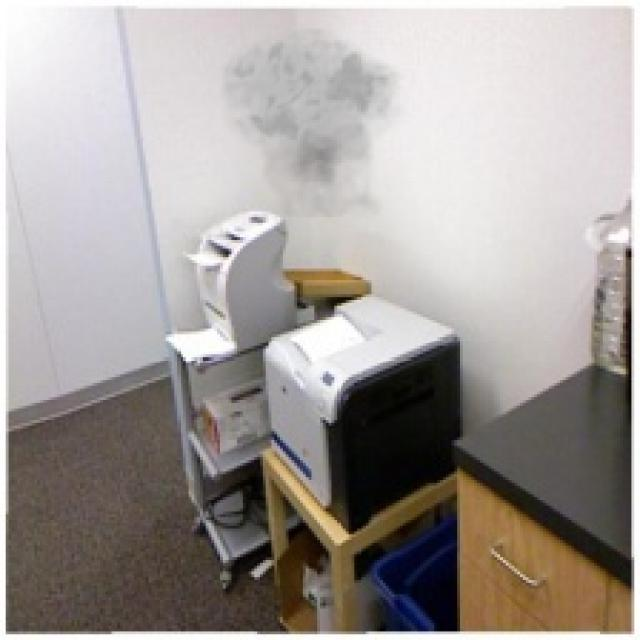Smoke: (212, 26, 418, 234)
